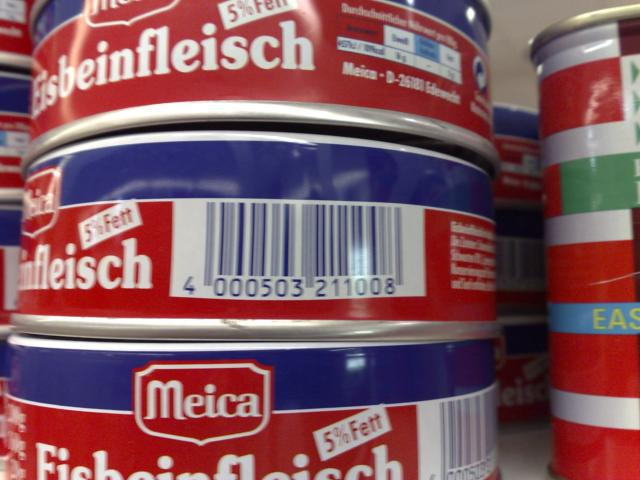Barkod: (200, 202, 403, 278)
